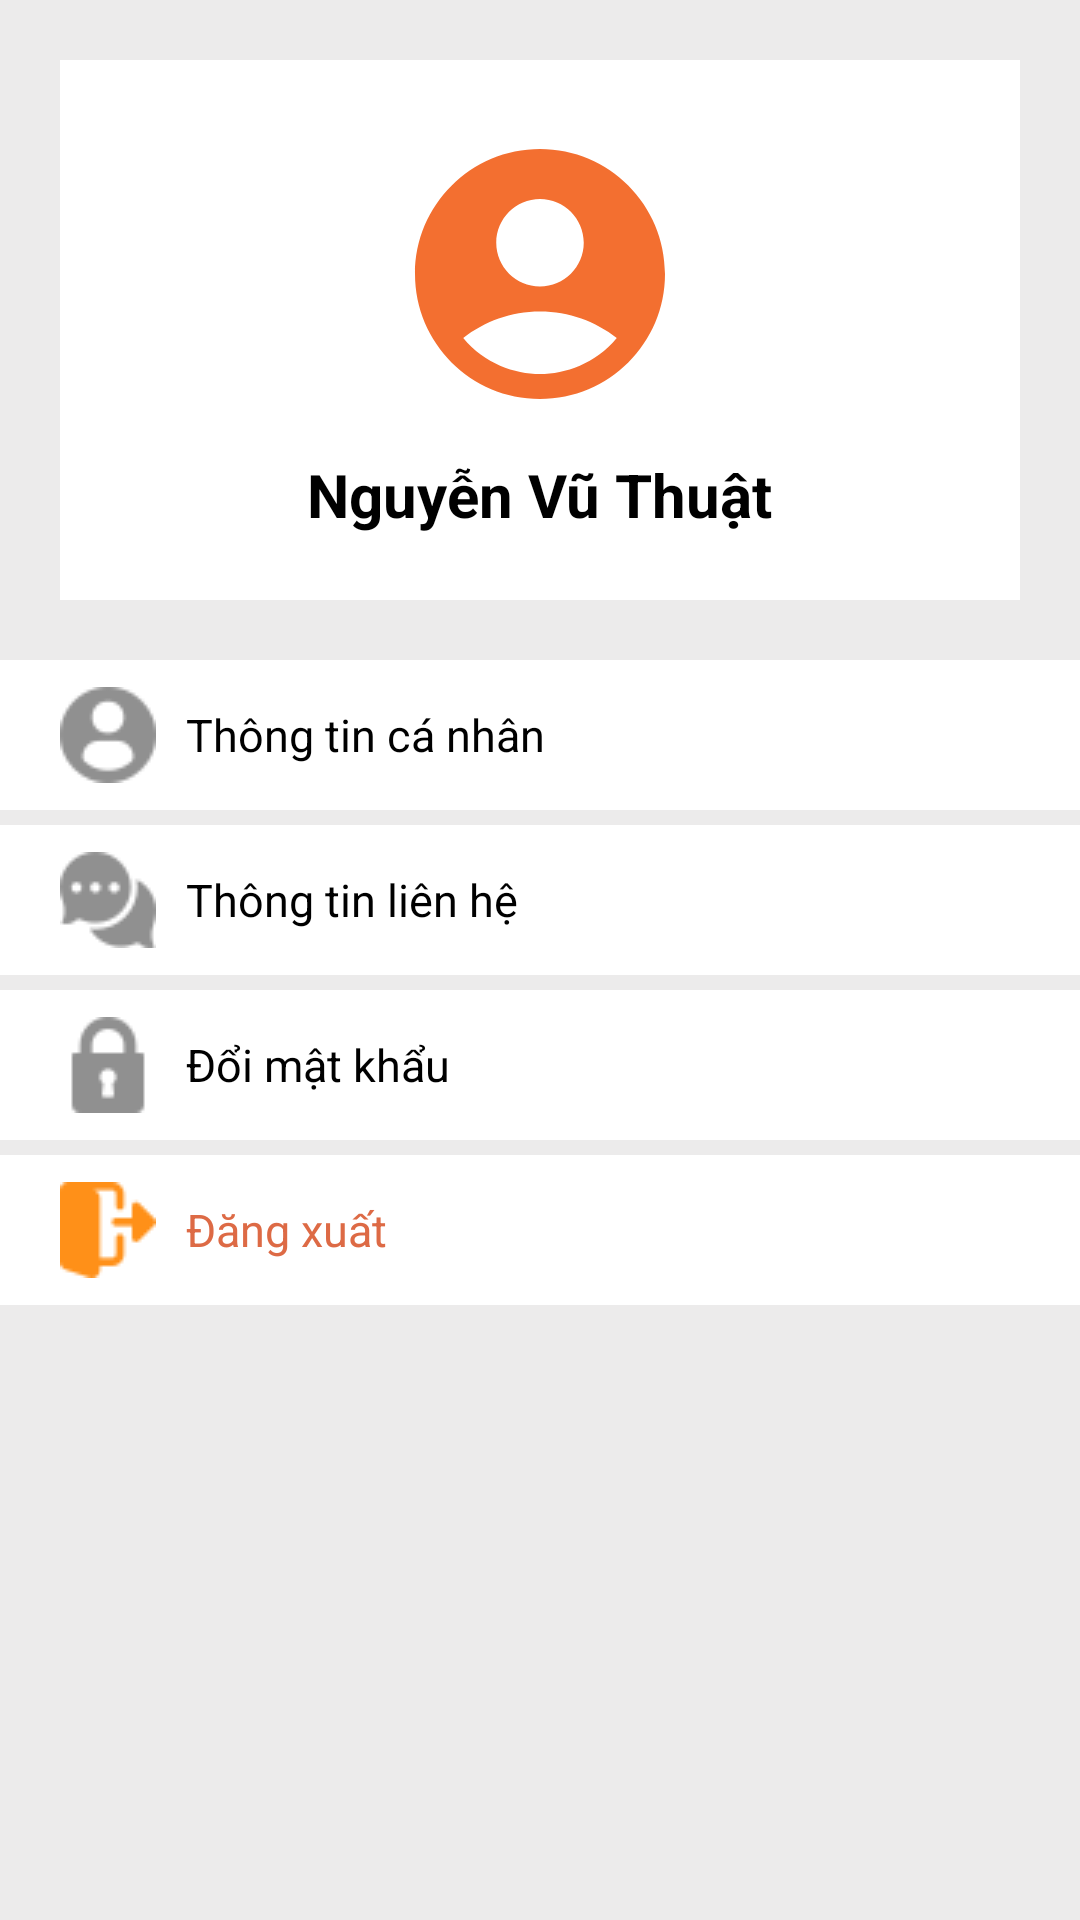

Icons on this 1080 × 1920 Android screen, each with its box as (x1, y1, x2, y2):
account: (415, 149, 665, 399)
message: (60, 852, 156, 948)
pass: (71, 1017, 145, 1113)
user: (60, 687, 156, 783)
